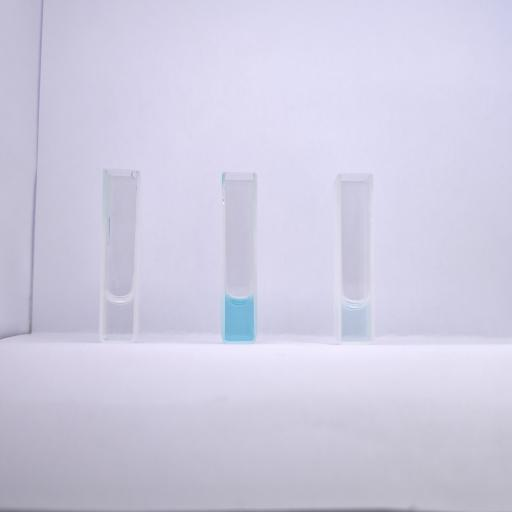cuvette: (98, 165, 142, 346), (335, 170, 377, 347), (219, 169, 259, 347)
liquid: (105, 295, 133, 339), (225, 298, 253, 340), (342, 298, 369, 340)
